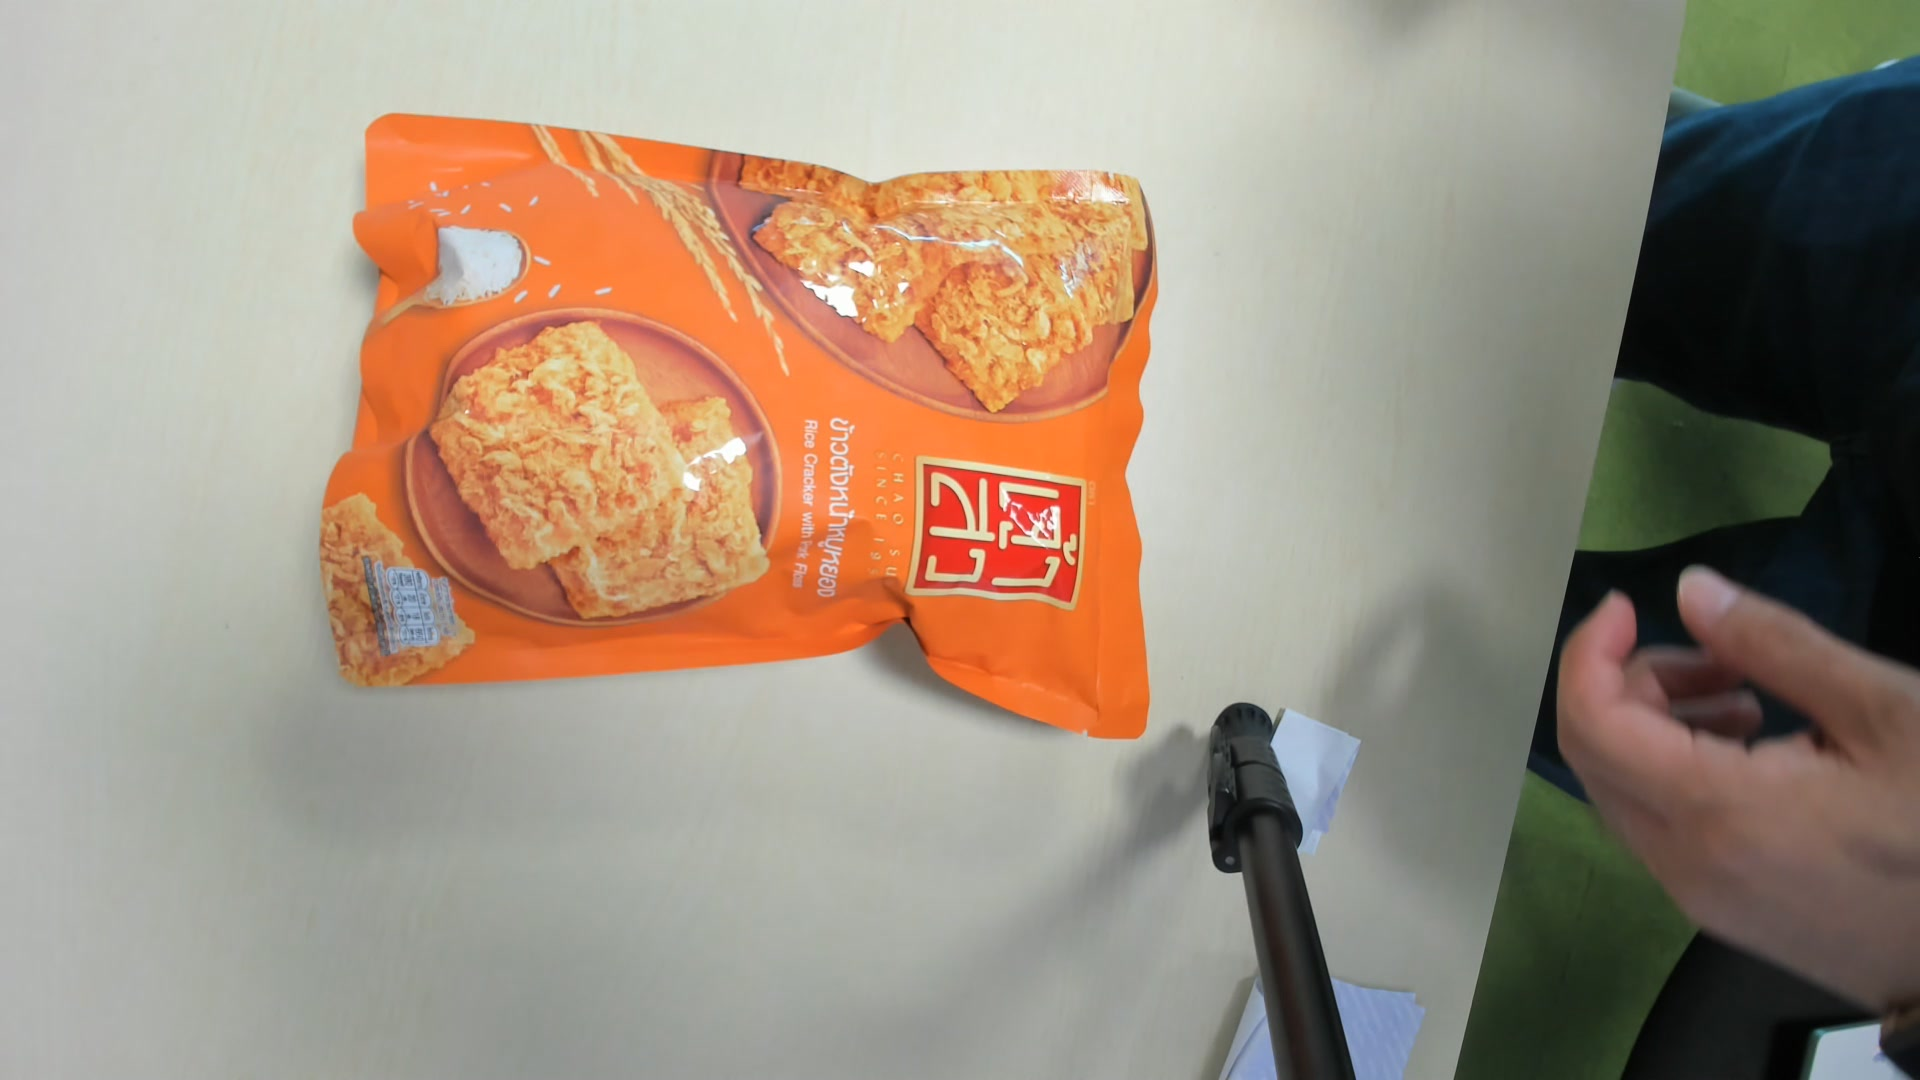PotatoChipsKeropok_0-99g_NonHalal_NonHealthy: (303, 115, 1156, 735)
